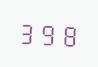eight: (59, 20, 78, 48)
nine: (39, 19, 58, 47)
three: (18, 18, 37, 46)
